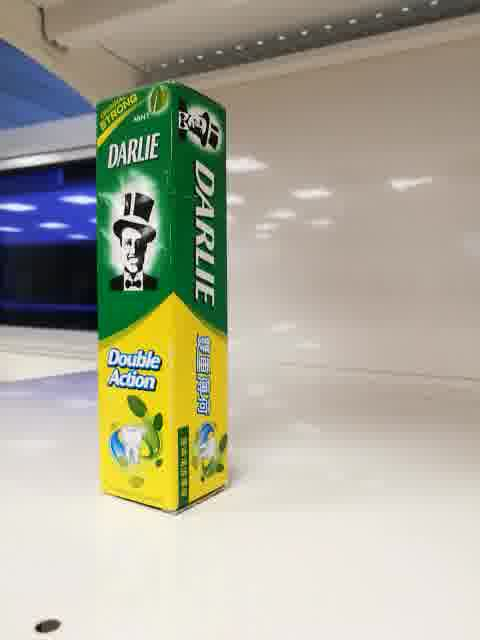toothpaste: (94, 79, 227, 516)
